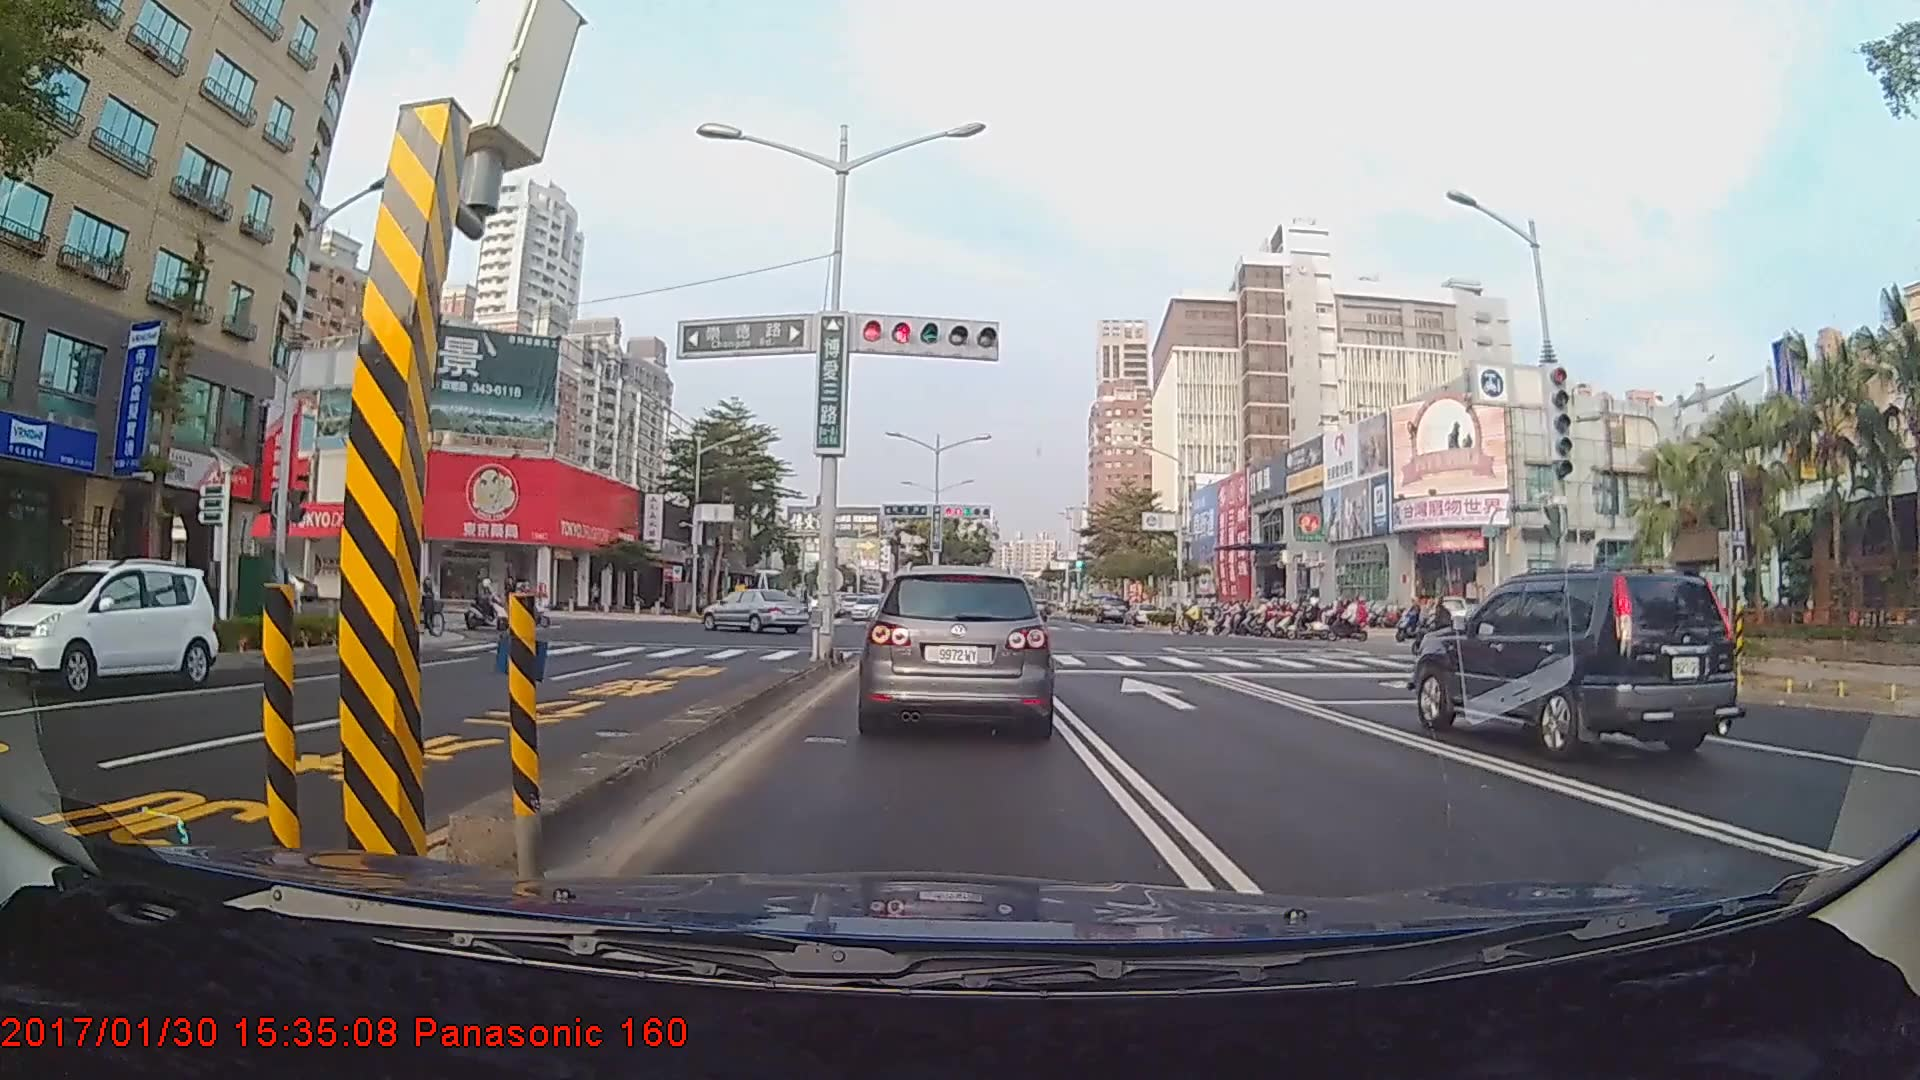rider: (462, 574, 514, 634), (1321, 594, 1375, 644), (1302, 601, 1348, 640), (1171, 602, 1206, 636)
vehicle: (1410, 568, 1745, 764), (864, 563, 1055, 734), (15, 559, 216, 694), (699, 584, 818, 633), (1096, 596, 1128, 623)
